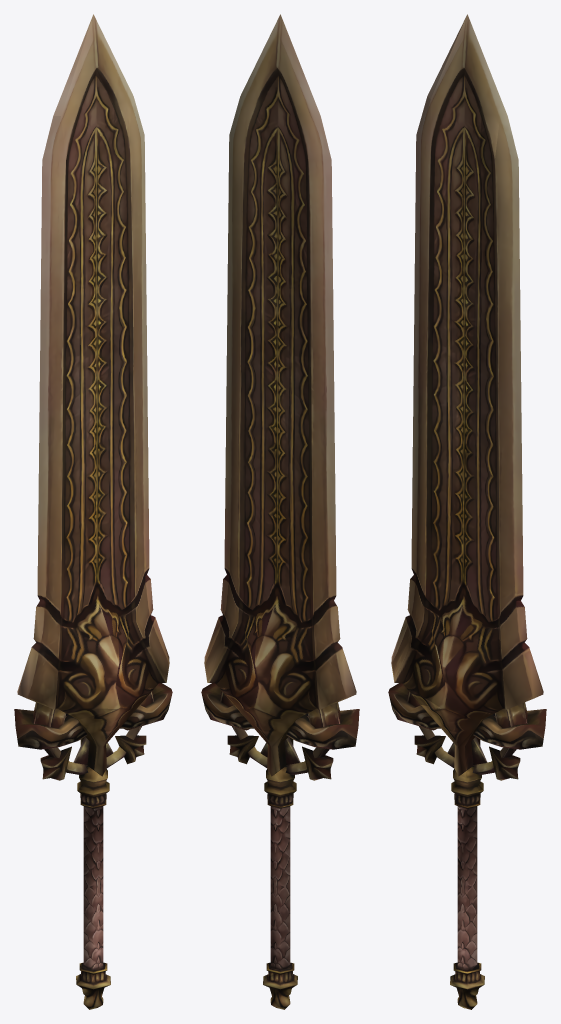
Rendered from Weapon_71.fbx.
The picture shows the model from 3 angles, left to right: view 1: azimuth 30°, elevation 25°; view 2: azimuth 150°, elevation 25°; view 3: azimuth 330°, elevation 25°; orthographic projection.
Visible parts, largest first — view 1: Weapon_71; view 2: Weapon_71; view 3: Weapon_71.
Boxes of the visible parts, x1=… form: Weapon_71: x1=14, y1=14, x2=172, y2=1009; Weapon_71: x1=201, y1=14, x2=359, y2=1009; Weapon_71: x1=388, y1=14, x2=546, y2=1009.
Size of the model in its own units: 27.06 by 15.21 by 165.
